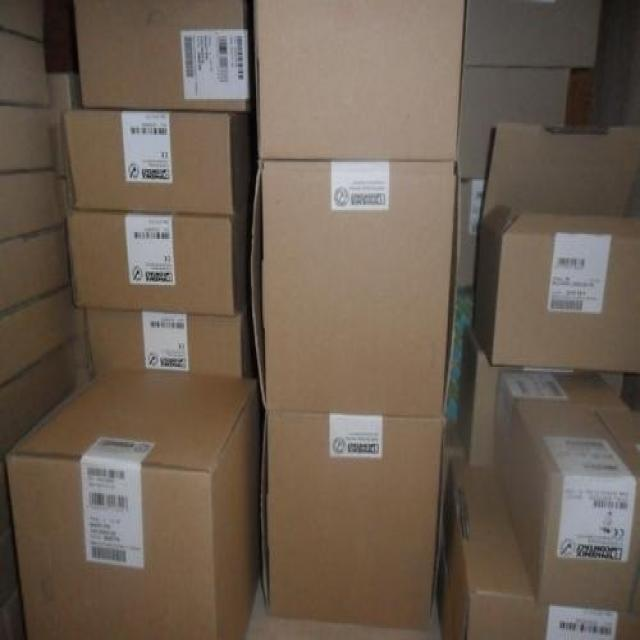box: (6, 365, 267, 638), (249, 157, 460, 418), (474, 121, 639, 374), (264, 409, 443, 625), (434, 453, 639, 638), (255, 1, 468, 160), (508, 396, 639, 611), (66, 185, 255, 316), (63, 104, 253, 213), (72, 1, 252, 114), (494, 367, 632, 507), (86, 302, 258, 384), (458, 65, 570, 178), (1, 335, 76, 459), (463, 3, 600, 68), (3, 282, 76, 384), (0, 221, 72, 307), (461, 323, 501, 472), (438, 417, 469, 571), (1, 169, 66, 239), (0, 451, 24, 638), (444, 288, 477, 422), (456, 173, 490, 291), (2, 104, 58, 174), (1, 28, 50, 104), (46, 70, 81, 176), (0, 3, 44, 41), (75, 307, 89, 366)
